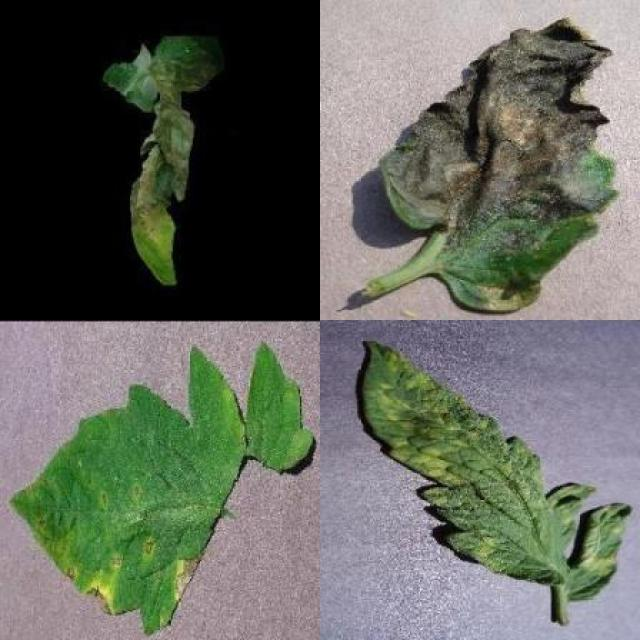Late Blight: (383, 15, 617, 315), (104, 34, 219, 286)
Leaf Mold: (361, 337, 633, 603)
Septoria: (8, 344, 245, 635)
